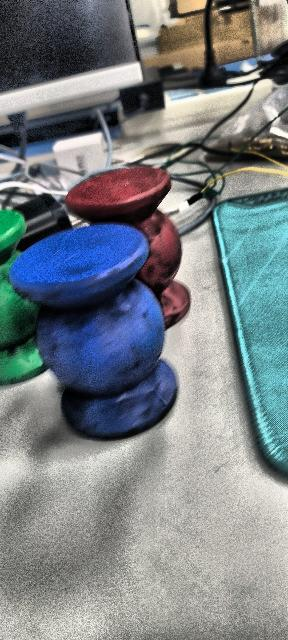blue: (9, 221, 177, 439)
green: (3, 198, 51, 389)
red: (60, 165, 216, 330)
